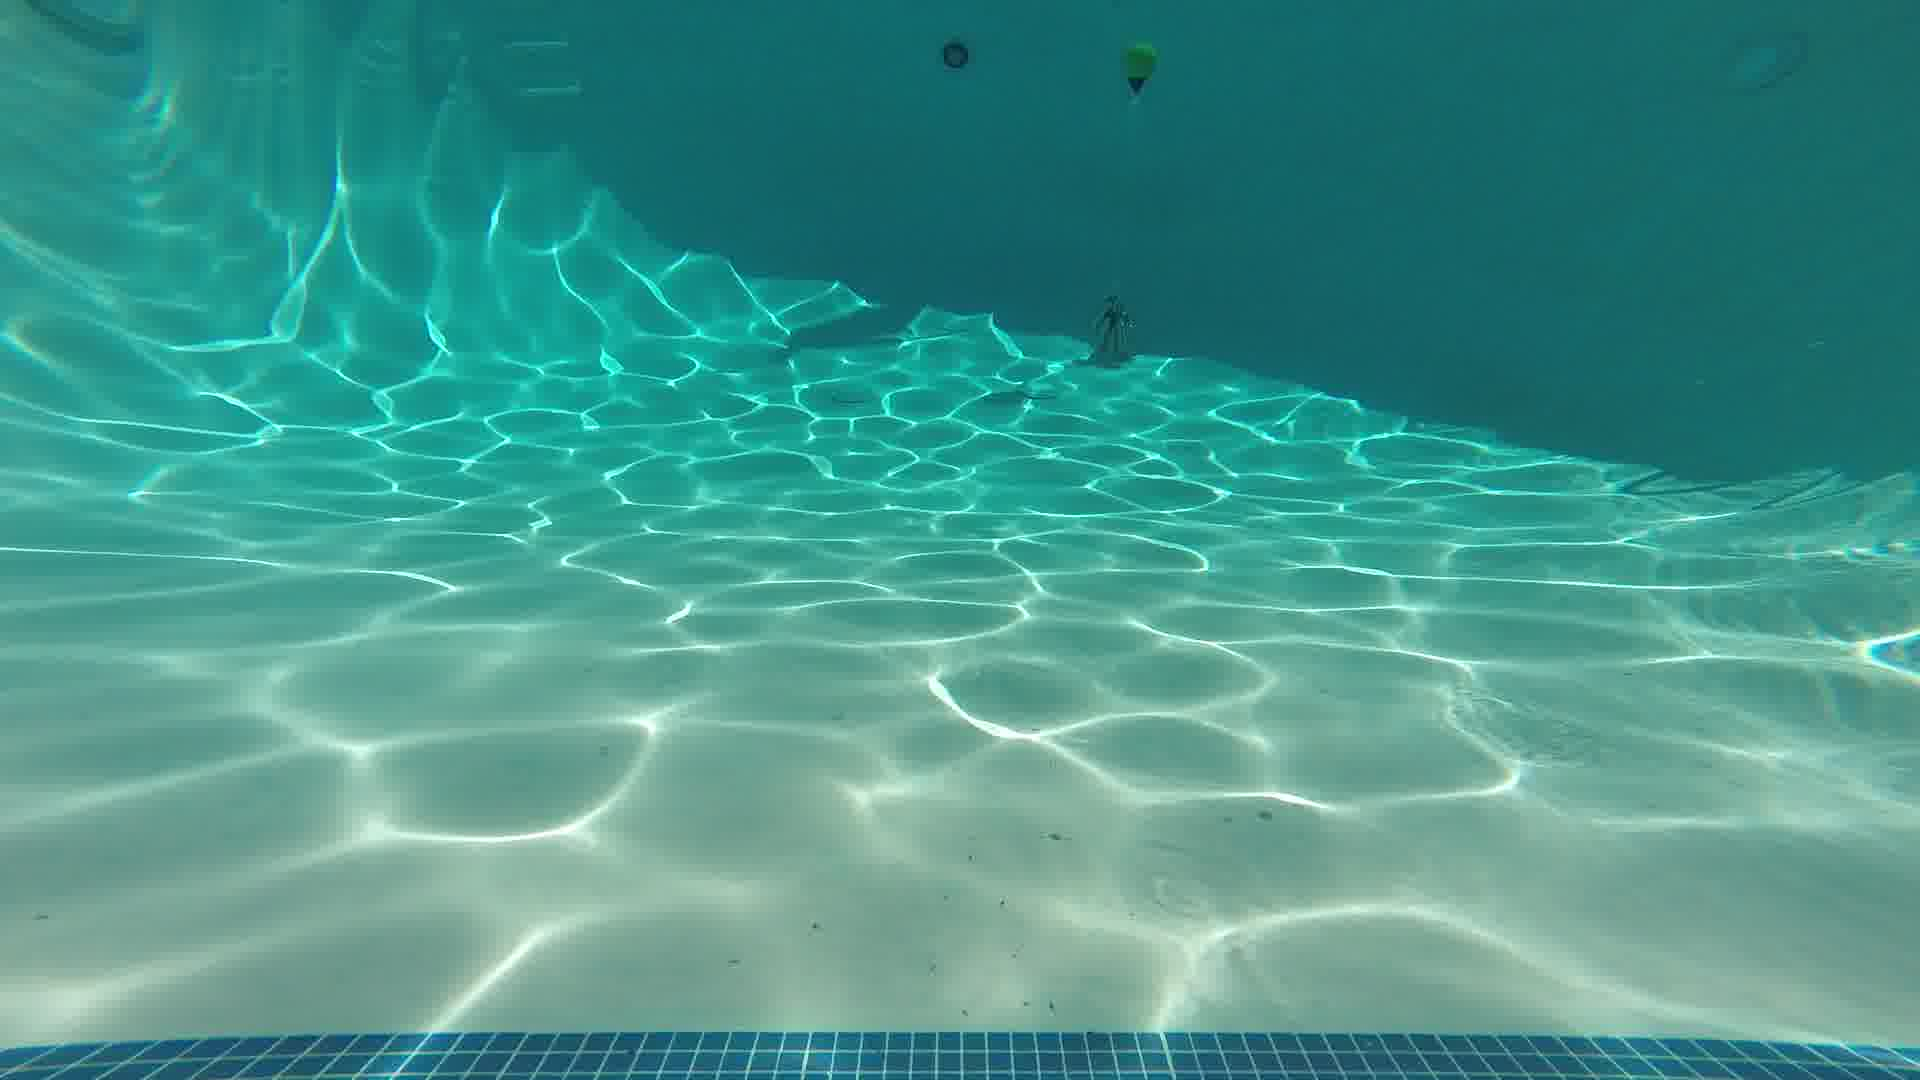yellow buoy: (1116, 32, 1164, 108)
